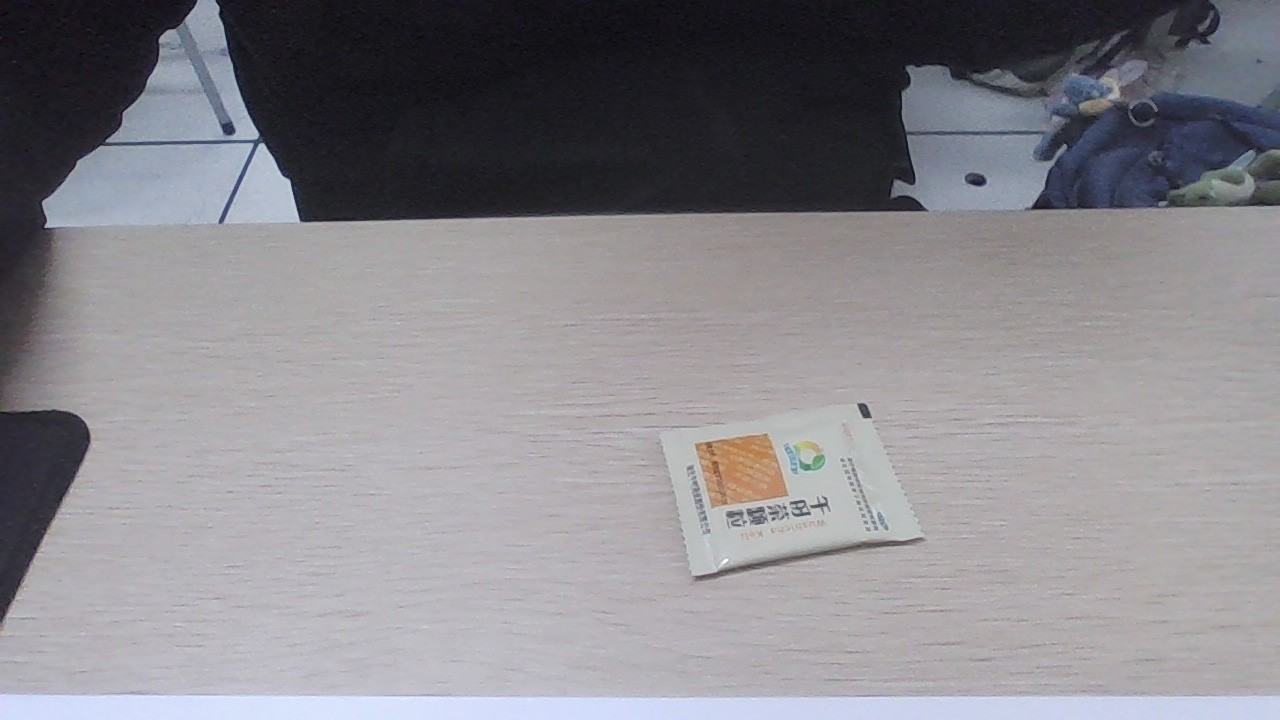YH-yellow medicine: (671, 419, 900, 571)
